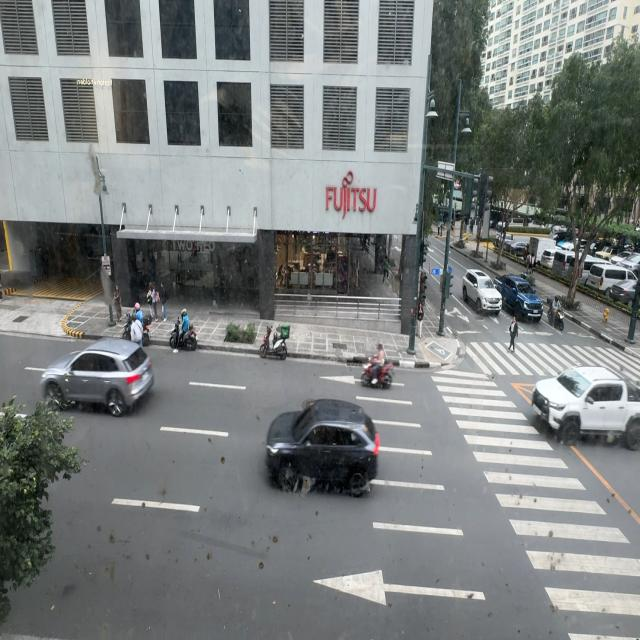crossing: (508, 316, 518, 354)
pedestrain: (112, 284, 122, 324), (416, 300, 424, 339)
